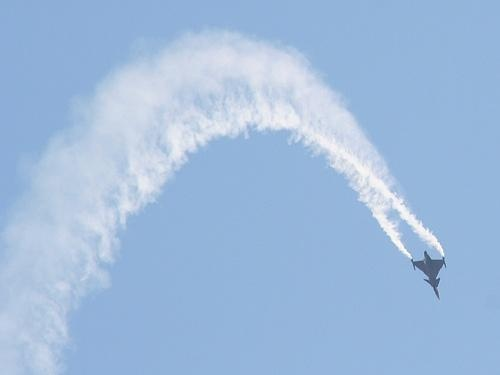aeroplane: (411, 251, 454, 302)
